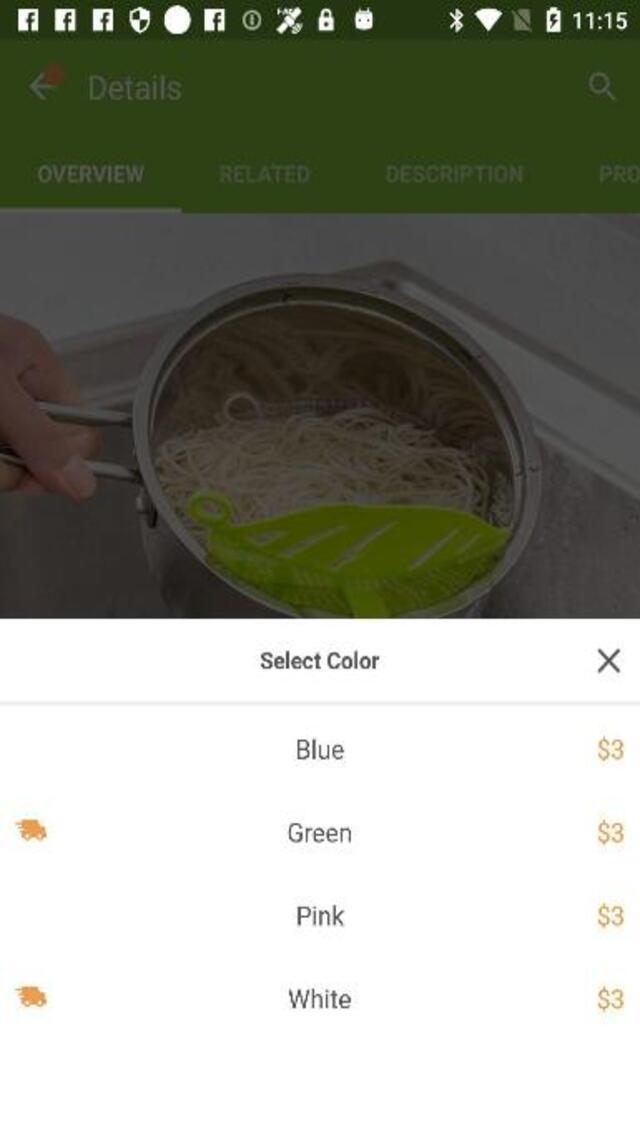Icon: (29, 65, 64, 102), (590, 71, 618, 103), (597, 649, 620, 674)
Image: (0, 214, 638, 616), (15, 818, 48, 839), (15, 986, 48, 1006)
Text: (386, 166, 522, 184), (88, 74, 181, 100), (261, 650, 381, 670), (39, 166, 144, 184), (220, 164, 310, 184), (288, 987, 350, 1008), (288, 822, 350, 842), (298, 738, 344, 759), (298, 904, 344, 924), (598, 164, 638, 184), (596, 984, 624, 1011), (596, 903, 624, 928), (596, 820, 624, 844), (598, 736, 622, 761)
